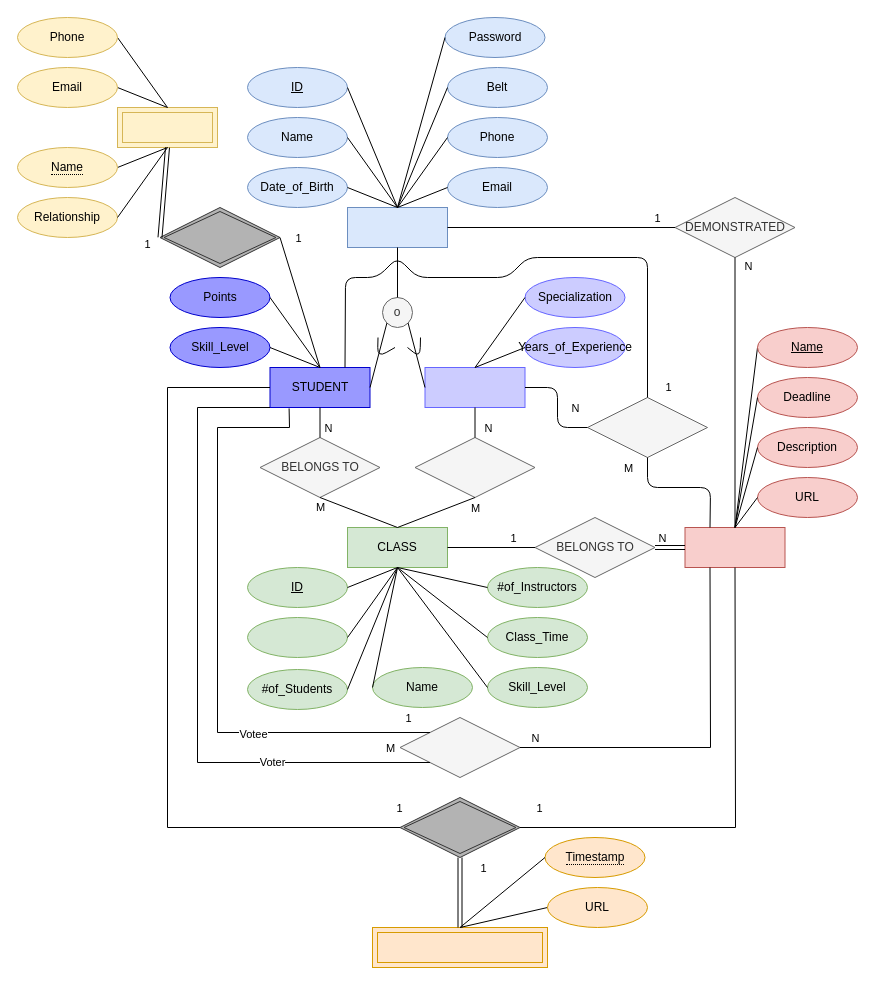
Some shapes in this 875 by 985 pixel diagram are drawn without their labels. The shapes that lost their labels are listed below. From the top down, each one's centre as x and y in pixels, then its label:
At (167,127): "GUARDIAN".
At (219,237): "HAS".
At (397,227): "USER".
At (474,387): "INSTRUCTOR".
At (647,427): "FAVOURITE".
At (474,467): "TEACHES".
At (734,547): "ACTIVITY".
At (297,637): "Age_Group".
At (459,747): "VOTE".
At (459,827): "POSTED".
At (460,947): "ACTIVITY_REPLY_VIDEO".
